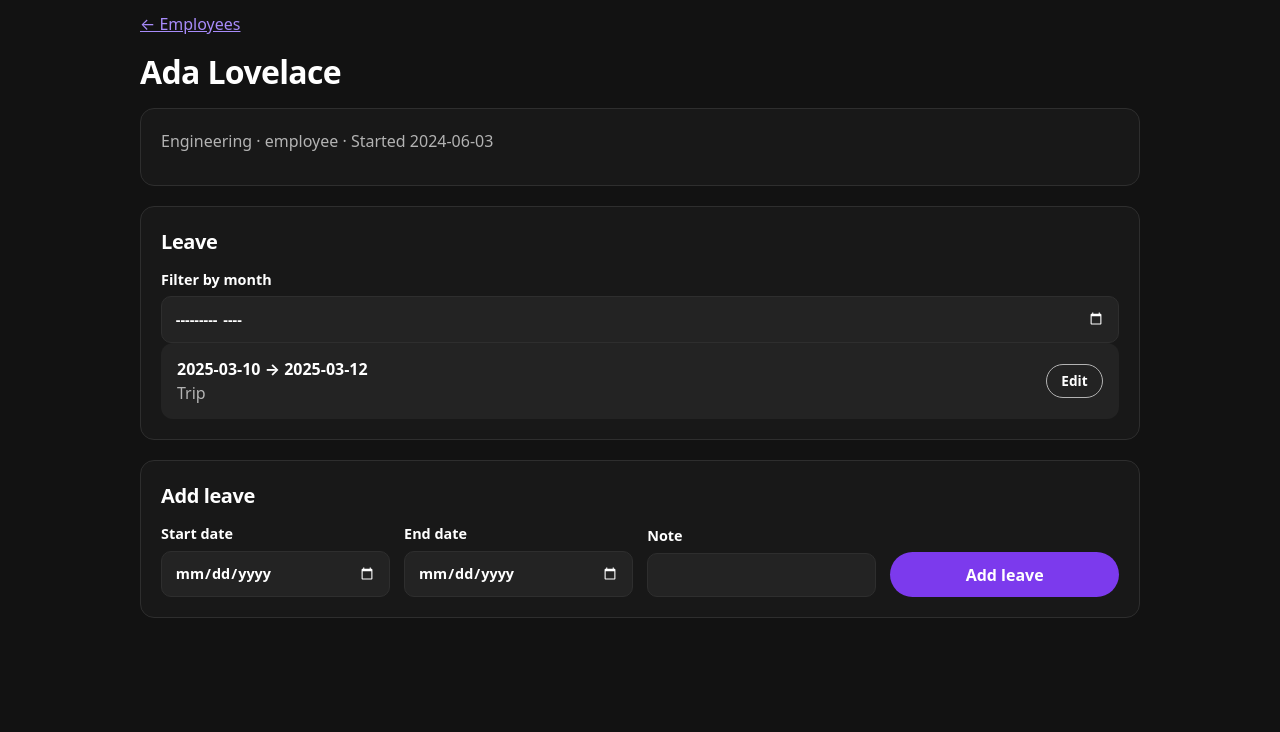
EmployeeDetailPage › blocks leave whose end date is before the start date
Expected: the list item with test id "leave-row-2025-03-10" is shown, 161,343 -> 1119,419
Type "2025-04-10" into the date field with test id "leave-start" at (275, 574), box 161,551 -> 390,597
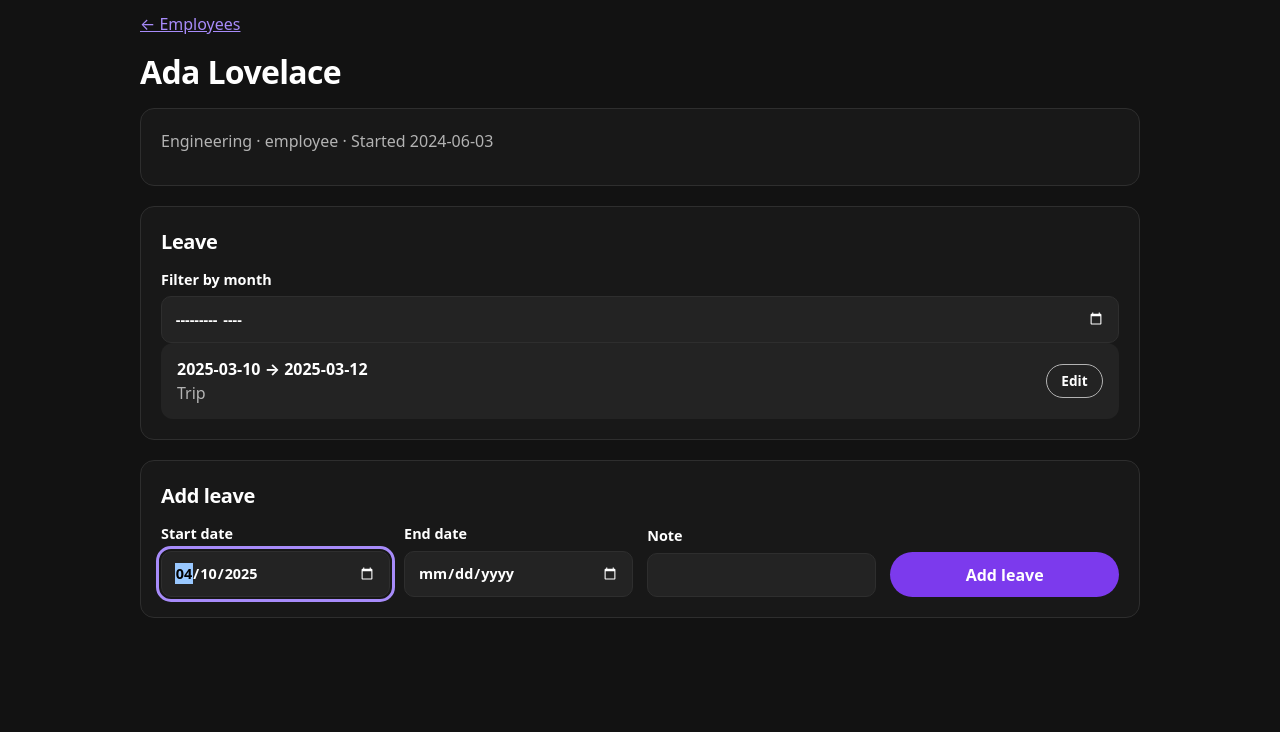
Type "2025-04-05" into the date field with test id "leave-end" at (518, 574), box 404,551 -> 633,597
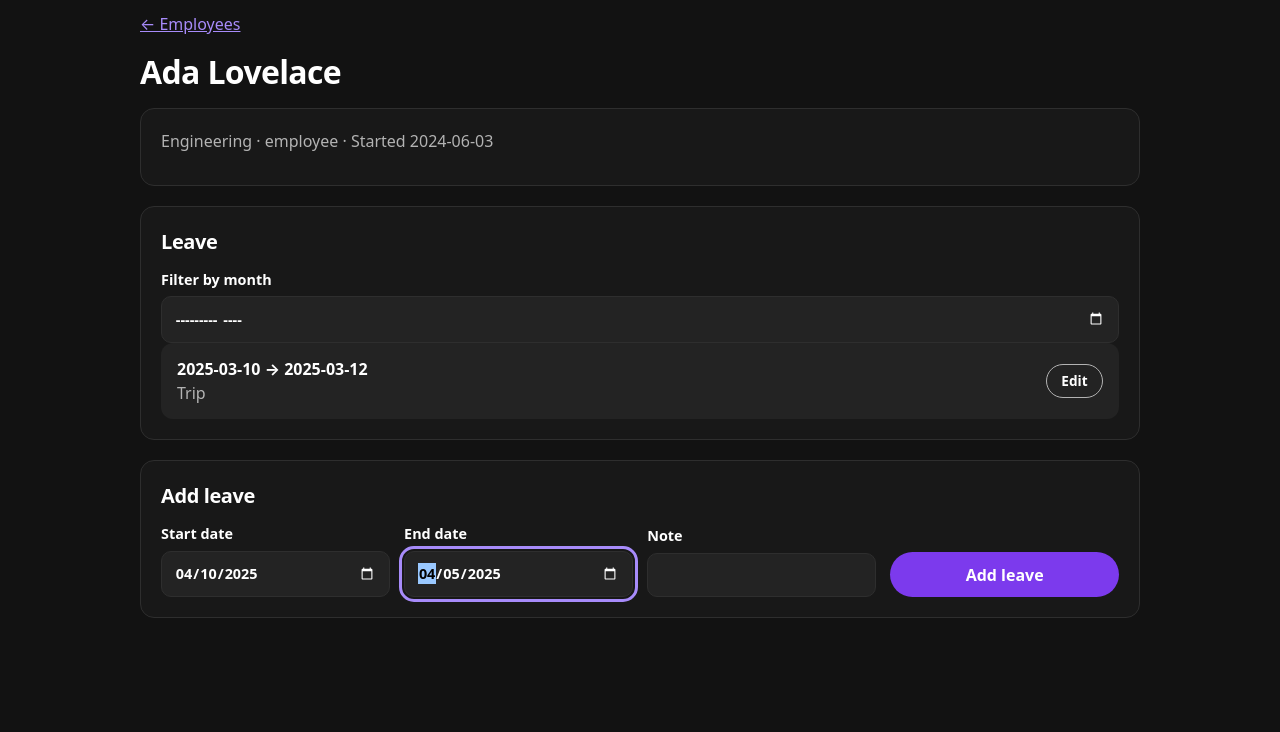
Click the button with test id "leave-submit" at (1005, 575), box 890,552 -> 1119,597
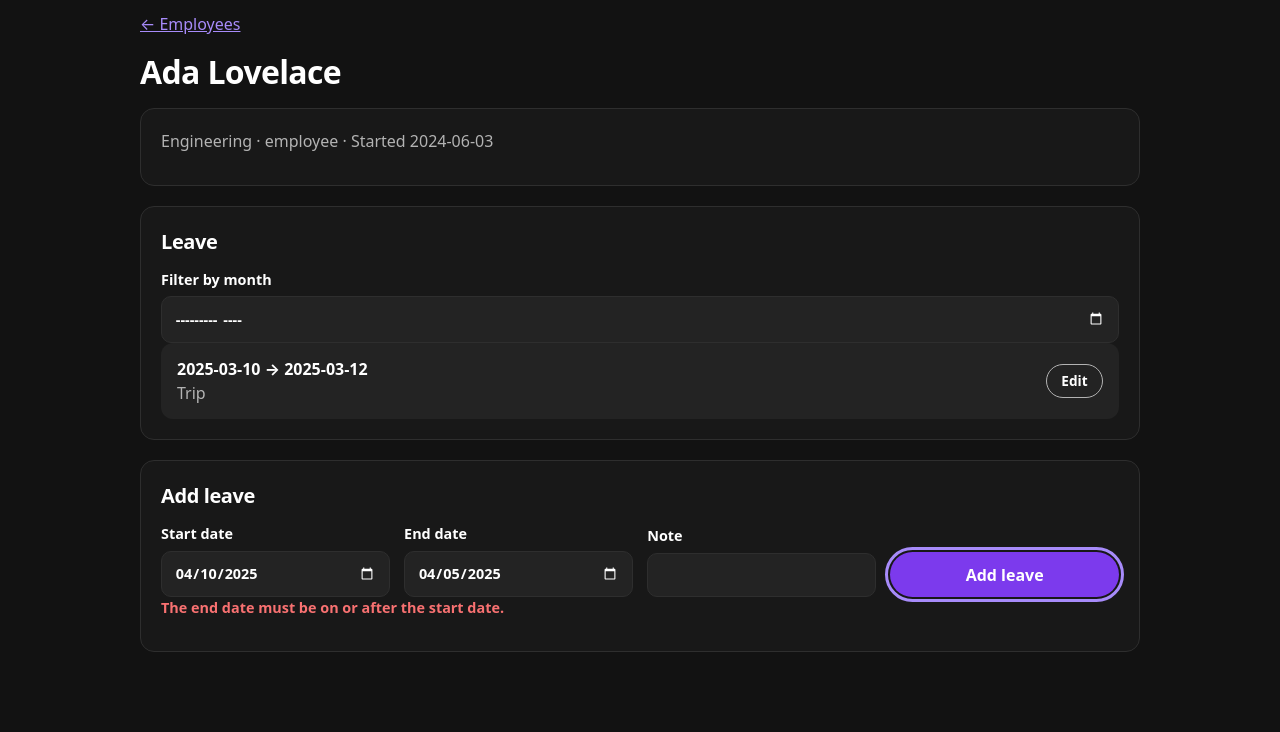
Now the message with test id "leave-form-error" shows "end date must be on or after", box 161,598 -> 504,617
